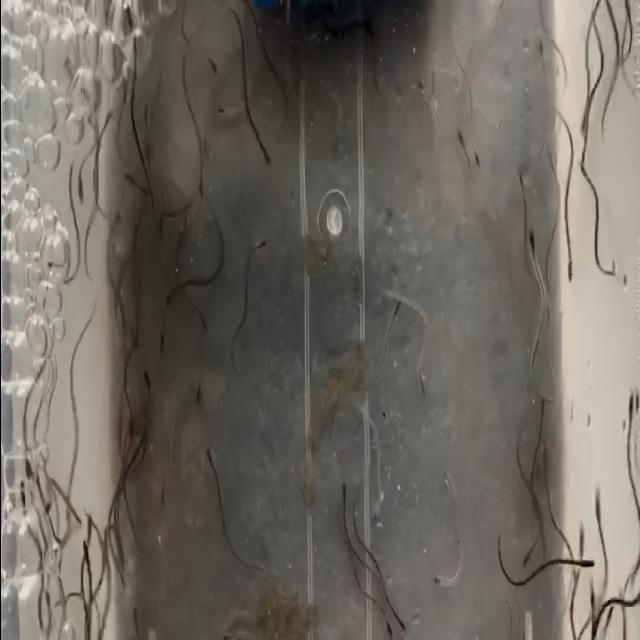active_glass_eel: (526, 219, 543, 277), (361, 6, 378, 57), (256, 138, 278, 174), (520, 530, 536, 578), (251, 228, 273, 262), (152, 202, 175, 234), (454, 123, 468, 175), (125, 604, 145, 640), (388, 288, 408, 324), (68, 170, 86, 208), (52, 530, 72, 564), (572, 516, 586, 564), (126, 147, 140, 195), (196, 448, 216, 481), (141, 362, 157, 402), (83, 520, 95, 573), (431, 558, 446, 600), (122, 1, 142, 32), (536, 432, 552, 470), (21, 456, 38, 491), (629, 378, 640, 432), (590, 488, 604, 530), (335, 469, 352, 503), (206, 52, 222, 88), (588, 575, 604, 611), (162, 288, 182, 316), (620, 390, 634, 430), (13, 478, 29, 512), (56, 264, 72, 298), (514, 160, 526, 204), (415, 371, 431, 404), (192, 174, 210, 202), (471, 22, 485, 58), (212, 98, 232, 123), (562, 252, 578, 282), (155, 330, 169, 364), (536, 386, 548, 424), (378, 598, 393, 628), (370, 507, 384, 539), (538, 38, 548, 82), (411, 82, 430, 105), (156, 474, 168, 510), (576, 147, 588, 181), (580, 544, 594, 570), (394, 618, 410, 640), (577, 109, 589, 136), (491, 105, 503, 132), (472, 146, 482, 172)
